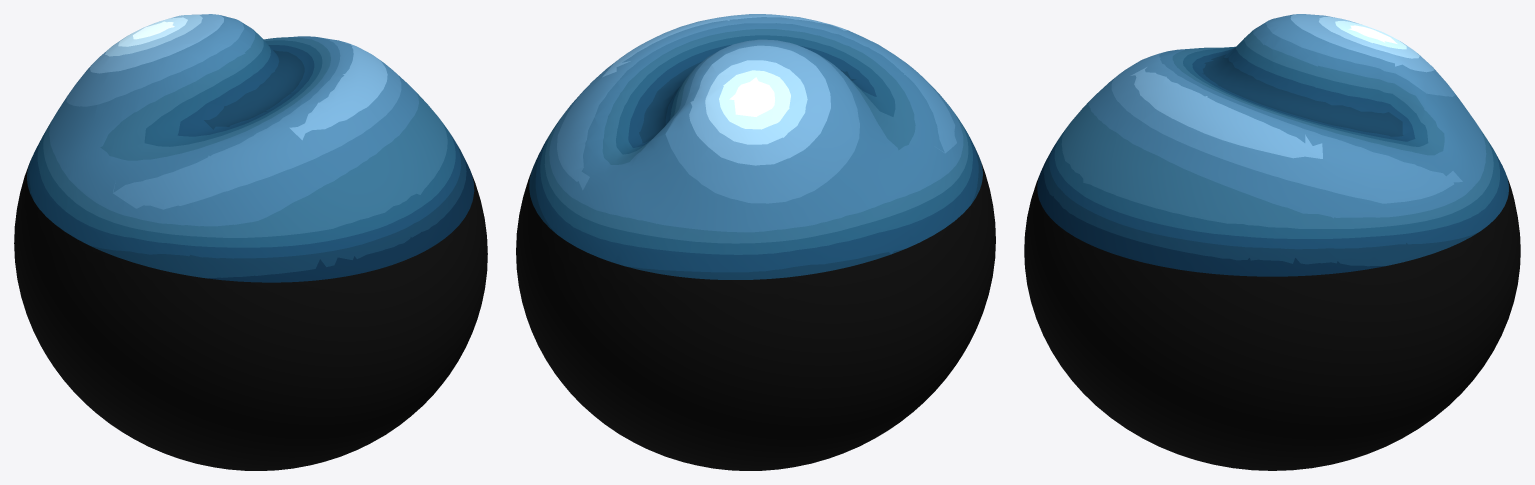
File: gyges_bubble_s.glb
3 views of the same model, side by side, from view 1: azimuth 30°, elevation 25°; view 2: azimuth 150°, elevation 25°; view 3: azimuth 270°, elevation 25° (orthographic).
Parts seen in each view (by area): view 1: gyges_bubble_s; view 2: gyges_bubble_s; view 3: gyges_bubble_s.
Boxes of the visible parts, bbox=[...] form: gyges_bubble_s: bbox=[14, 14, 487, 470]; gyges_bubble_s: bbox=[516, 14, 995, 470]; gyges_bubble_s: bbox=[1024, 14, 1520, 470].
Size of the model in its own units: 15 by 14.56 by 16.
